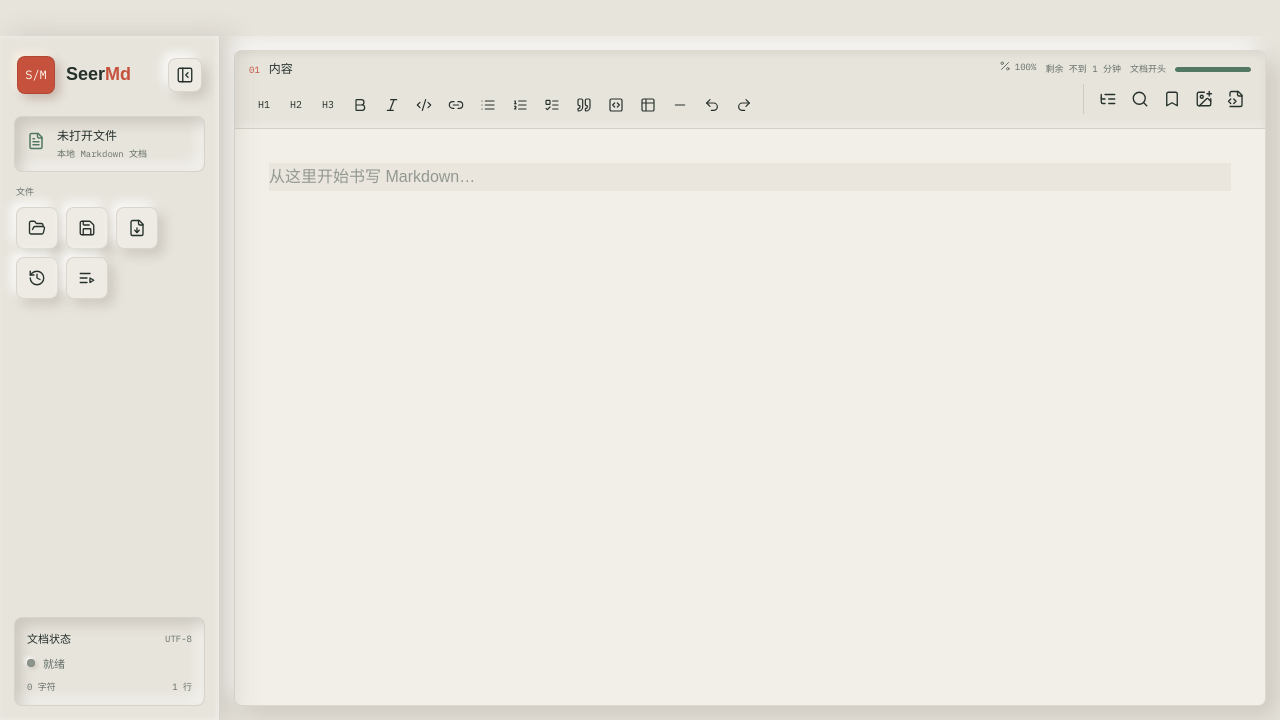
Test case: App › clears the persistent reading list
Click the button named "打开阅读列表": click(87, 278) [66,257,108,299]
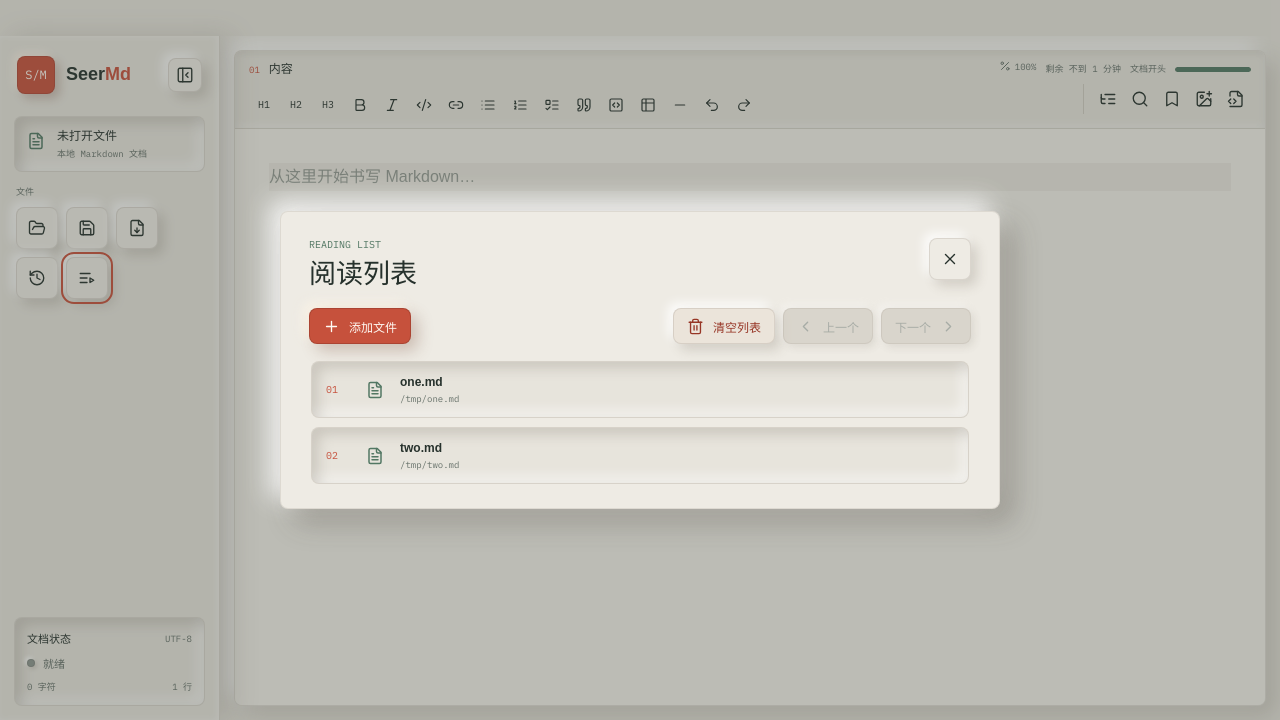
expect the button "01 one.md /tmp/one.md" is shown: met, box [311,361,969,418]
Click the button "清空列表": click(724, 326) [673,308,775,344]
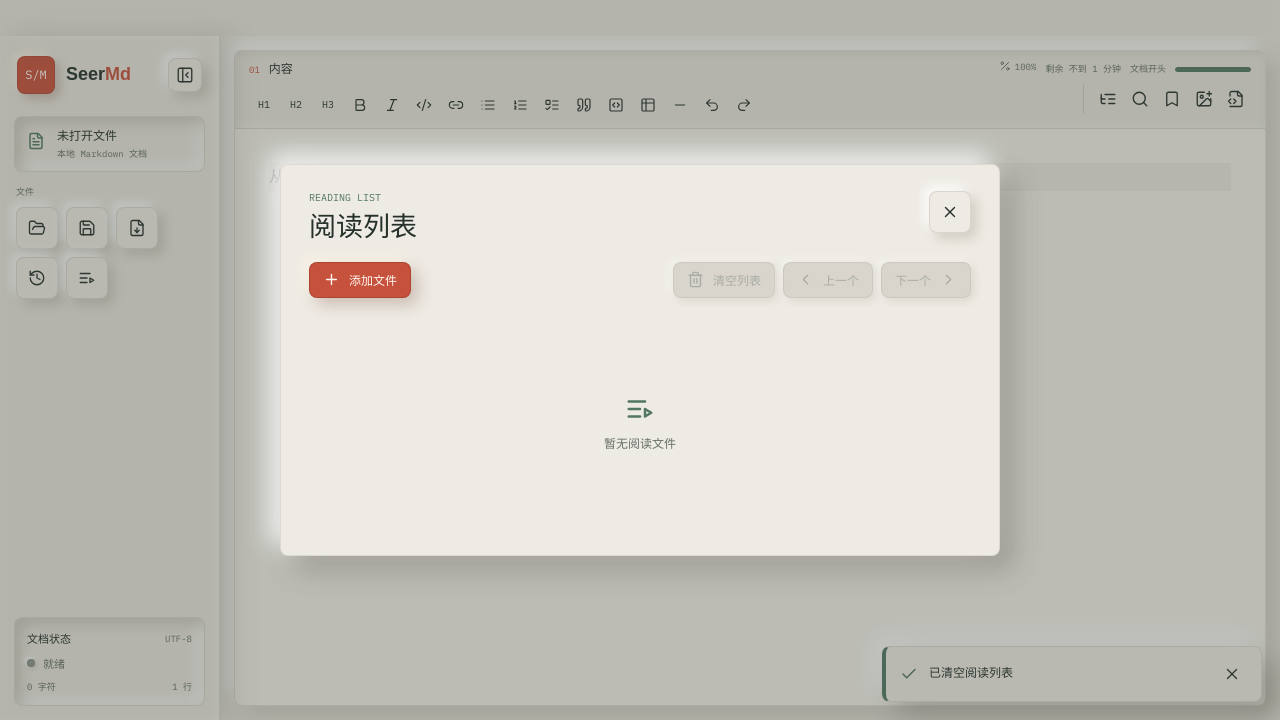
expect the text "暂无阅读文件" is shown: met, box [604,434,676,451]
expect the button "清空列表" is disabled: met, box [673,262,775,298]
